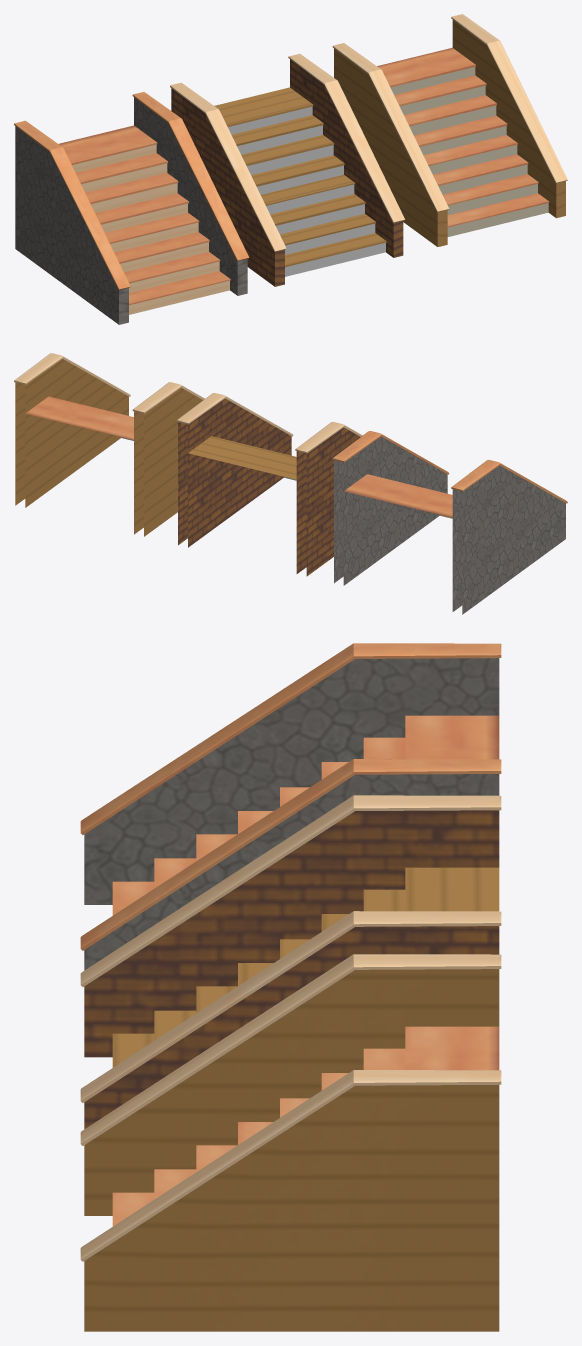
The model's file is ModularFrontStairsV1ForV.fbx.
3 renders of one model, top to bottom at view 1: azimuth 30°, elevation 25°; view 2: azimuth 150°, elevation 25°; view 3: azimuth 270°, elevation 25°, orthographic. The views are drawn at different scales.
Parts seen in each view (by area): view 1: VFrontStairs_V2_2, VFrontStairs_V2_1, VFrontStairs_V2_3; view 2: VFrontStairs_V2_2, VFrontStairs_V2_1, VFrontStairs_V2_3; view 3: VFrontStairs_V2_1, VFrontStairs_V2_3, VFrontStairs_V2_2.
Boxes of the visible parts, <box> form: VFrontStairs_V2_2: <box>14,92,249,324</box>; VFrontStairs_V2_1: <box>332,14,567,246</box>; VFrontStairs_V2_3: <box>170,53,405,286</box>; VFrontStairs_V2_2: <box>332,431,567,614</box>; VFrontStairs_V2_1: <box>14,353,204,536</box>; VFrontStairs_V2_3: <box>176,393,362,576</box>; VFrontStairs_V2_1: <box>80,954,501,1331</box>; VFrontStairs_V2_3: <box>80,795,501,1128</box>; VFrontStairs_V2_2: <box>80,643,501,970</box>.
Bounding box in the file's own units: 37.62 × 10.06 × 15.21.
